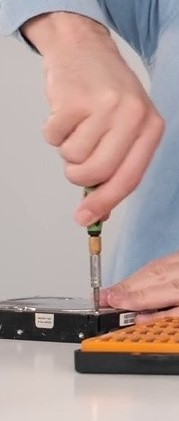screwdriver: (79, 134, 111, 312)
